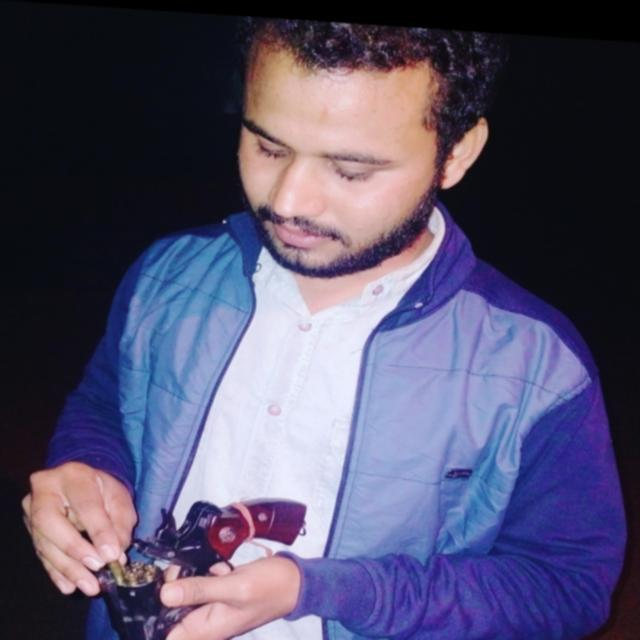weapon: (80, 482, 312, 640)
